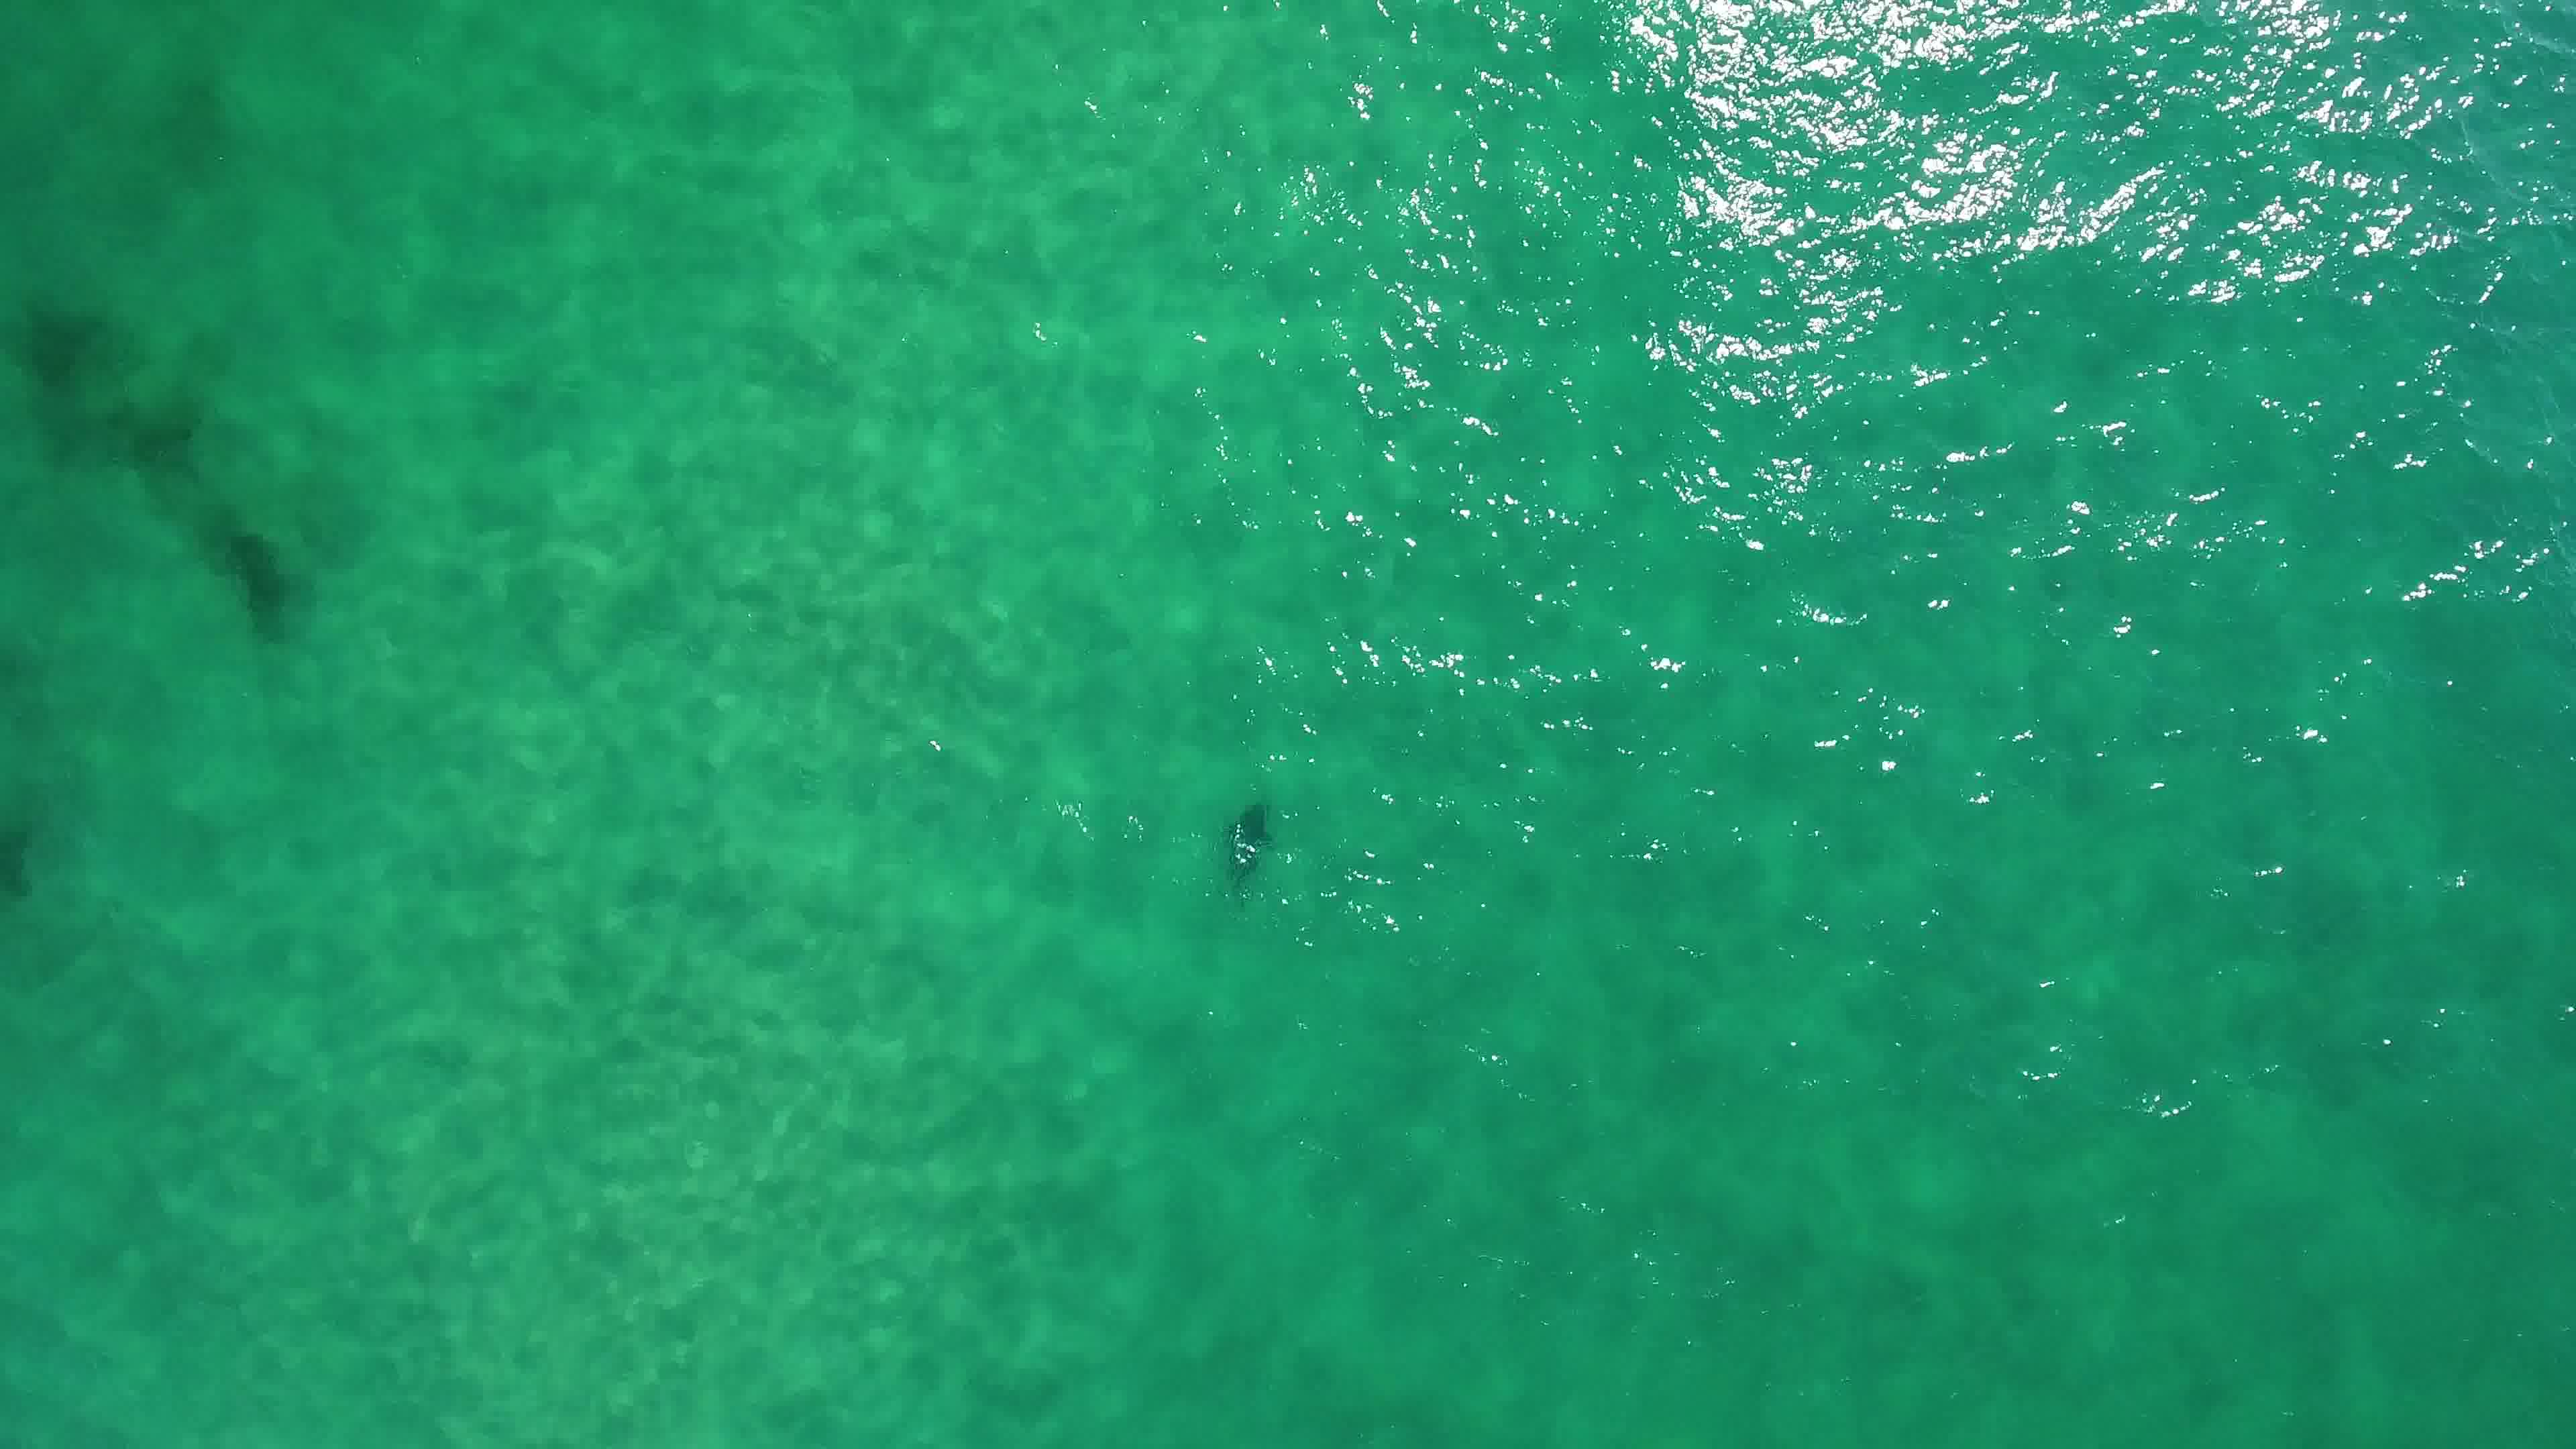shark: (1215, 796, 1283, 895)
